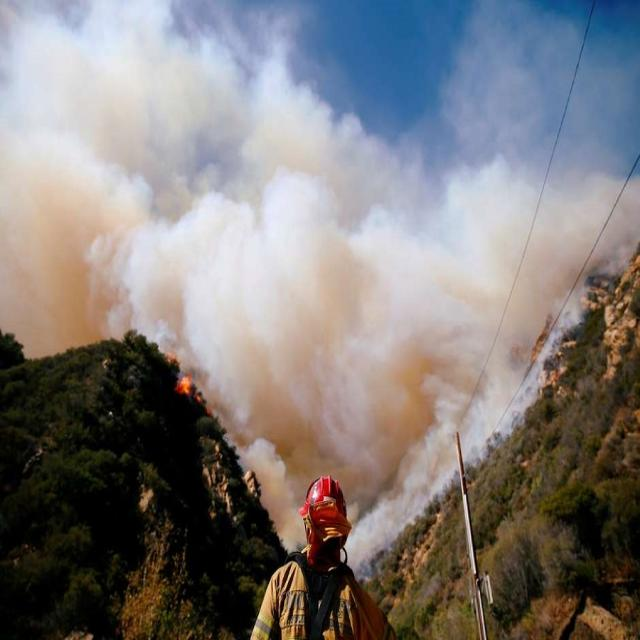smoke: (167, 195, 509, 479), (13, 124, 154, 314), (512, 185, 614, 288)
